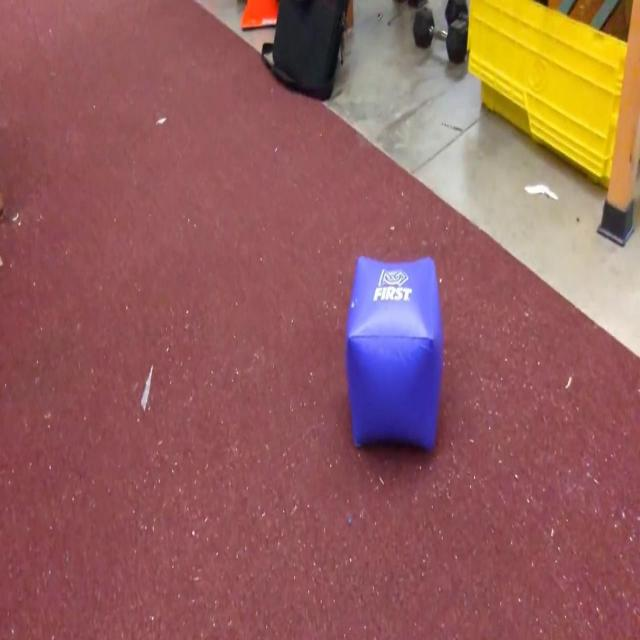frc_cube: (345, 257, 444, 454)
